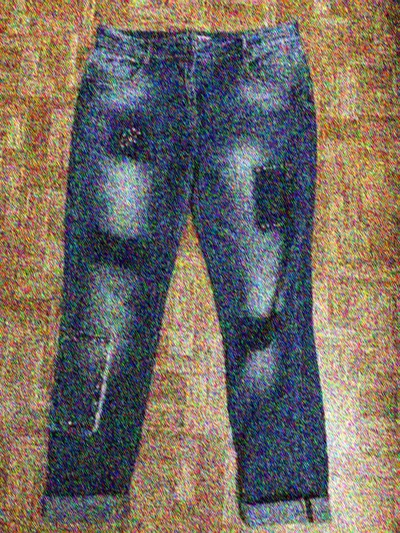Pants: (26, 18, 353, 520)
